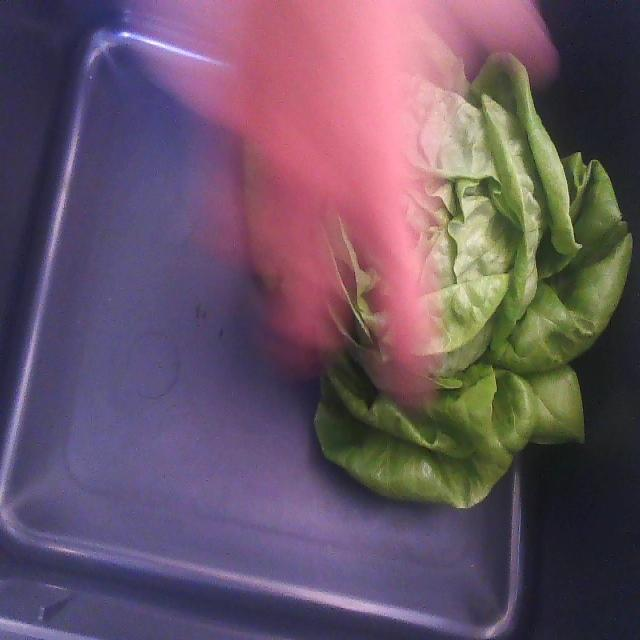Lettuce-plant: (314, 59, 632, 508)
